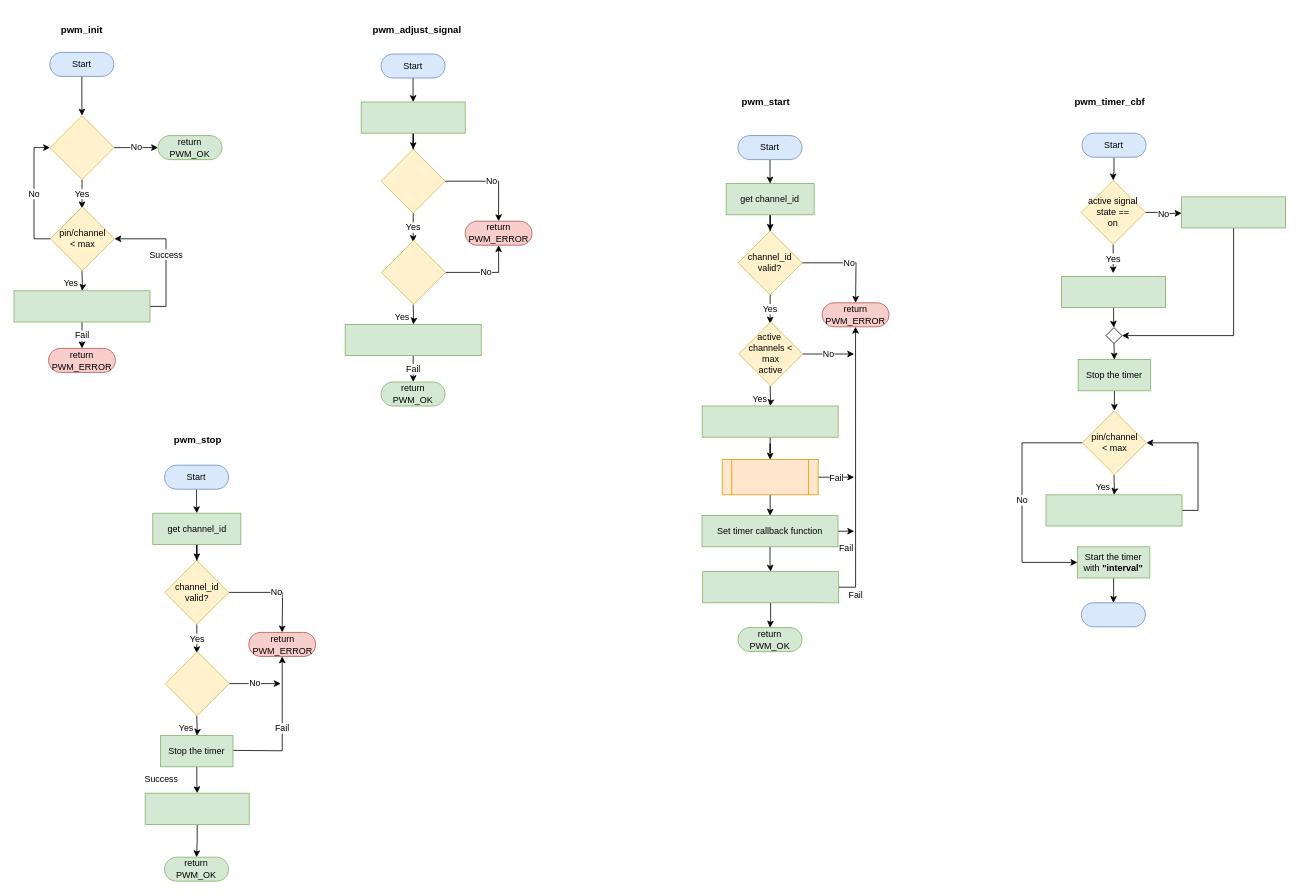
Some shapes in this 1300 by 895 pixel diagram are drawn without their labels. The centre of each missing label's shape, as x and y in pixels:
"pin level" = high "interval" = on_time Active signal state =on: the point at 1113,292
"pin level" = low "interval" = off_time Active signal state =off: the point at 1233,212
Active channels ++ save channel state as enabled: the point at 769,421
Active channels -- save channel state as disabled: the point at 196,808
calculate signal on and off time for the channel: the point at 412,340
channel enabled?: the point at 196,683
channel< max?: the point at 81,147
channel_id <max?: the point at 412,180
duty cycle <= 100: the point at 413,272
get channel_id, duty cycle, period: the point at 412,117
gpio_pin_init(pin_cfg[channel][pin]): the point at 81,306
Return: the point at 1113,614
set channel pins initial state: the point at 769,477
set pin to "pin level": the point at 1113,510
start the timer: the point at 770,587
